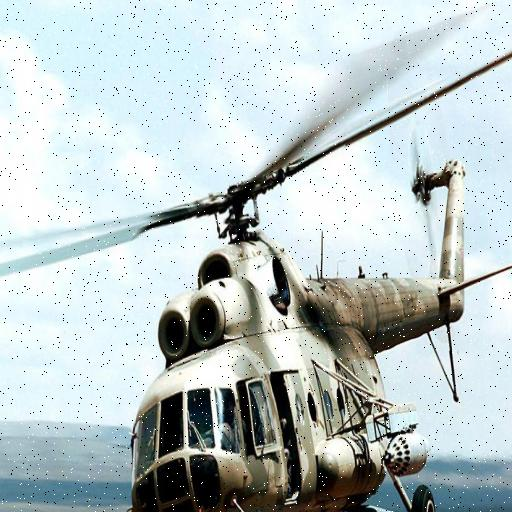helicopter: (16, 92, 512, 512)
